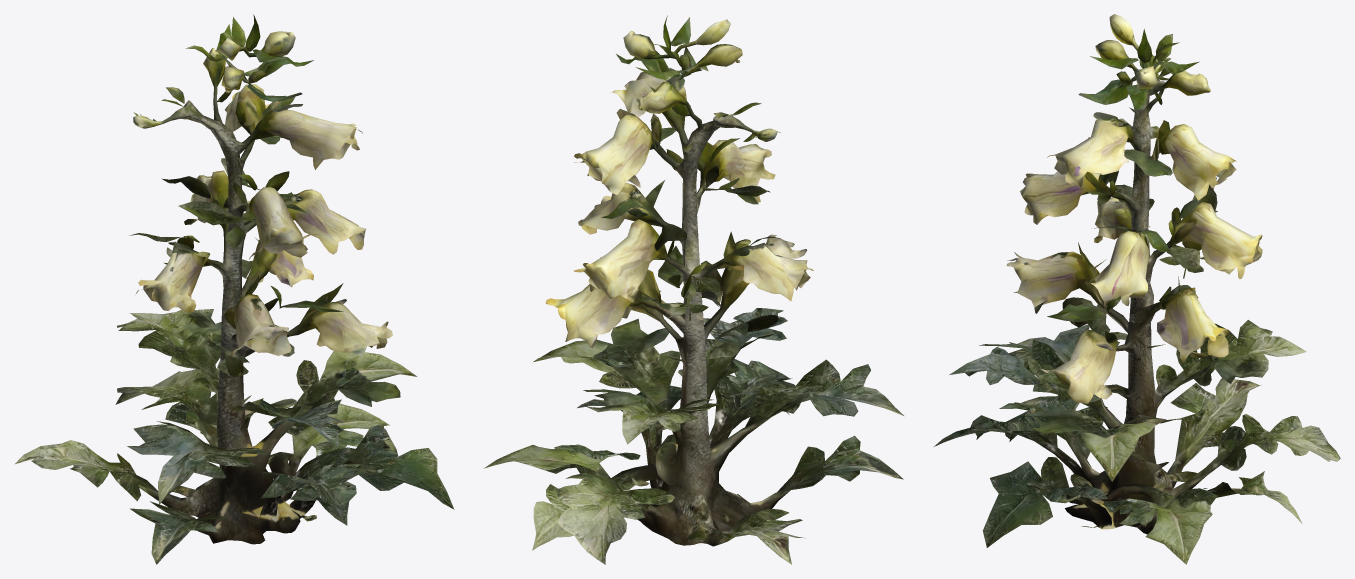
The model's file is henbane.glb.
The picture shows the model from 3 angles, left to right: view 1: azimuth 30°, elevation 25°; view 2: azimuth 150°, elevation 25°; view 3: azimuth 270°, elevation 25°; orthographic projection. The views are drawn at different scales.
Visible parts, largest first — view 1: tripo_node_7680a97b-576d-4550-8df6-eda8c828fdd4; view 2: tripo_node_7680a97b-576d-4550-8df6-eda8c828fdd4; view 3: tripo_node_7680a97b-576d-4550-8df6-eda8c828fdd4.
Part boxes in pixels (x1,y1,x2,y2): tripo_node_7680a97b-576d-4550-8df6-eda8c828fdd4: [15, 14, 454, 564]; tripo_node_7680a97b-576d-4550-8df6-eda8c828fdd4: [484, 15, 903, 564]; tripo_node_7680a97b-576d-4550-8df6-eda8c828fdd4: [934, 14, 1340, 564].
Size of the model in its own units: 0.7183 by 0.9995 by 0.7583.
Materials: 1 (1 with a texture image).
